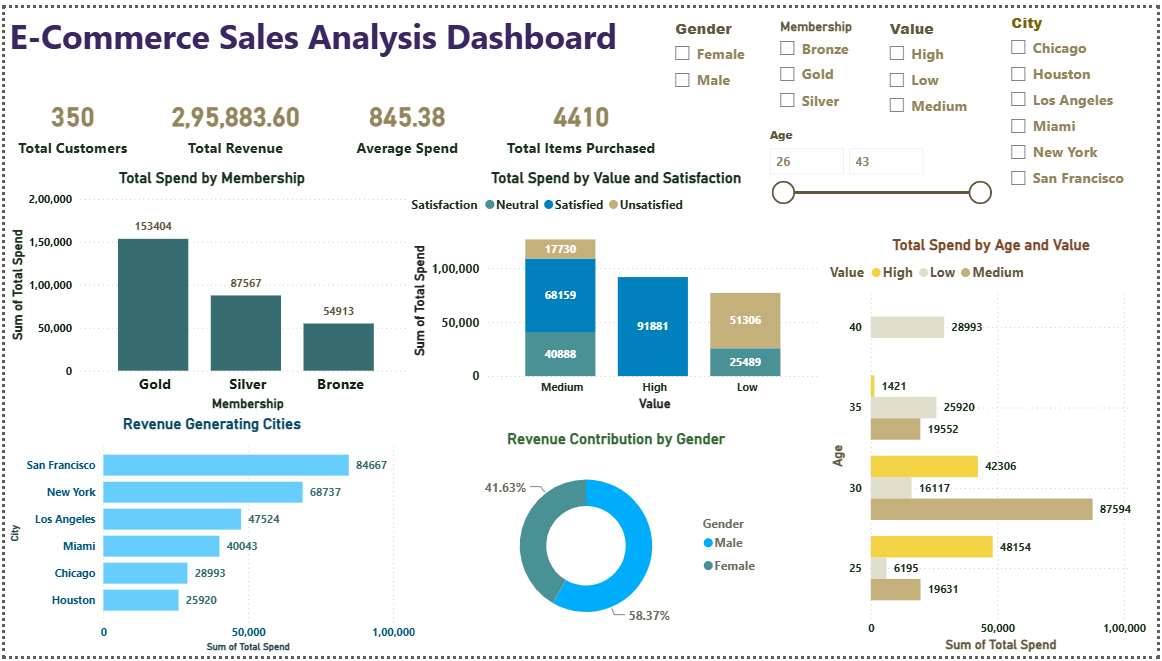

The page's visual inventory and layout, read from the dashboard file:
{"tool":"powerbi","page":{"name":"Page 1","canvas":[1280,720],"ordinal":0},"visuals":[{"type":"textbox","box":[0,0,836.7,108.3],"z":0},{"type":"card","fields":{"Values":["Count(E_commerce_sales.Customer_id)"]},"box":[0,81.7,150,96.7],"z":1000},{"type":"card","fields":{"Values":["Sum(E_commerce_sales.Total_Spend)"]},"box":[166.7,81.7,178.3,96.7],"z":2000},{"type":"card","fields":{"Values":["Avg(E_commerce_sales.Total_Spend)"]},"box":[363.3,81.7,166.7,96.7],"z":3000},{"type":"card","fields":{"Values":["Sum(E_commerce_sales.Items_Purchased)"]},"box":[548.3,81.7,183.3,96.7],"z":4000},{"type":"clusteredColumnChart","title":"Total Spend by Membership","fields":{"Category":["E_commerce_sales.Membership"],"Y":["Sum(E_commerce_sales.Total_Spend)"]},"box":[0,178.3,460,273.3],"z":5000},{"type":"clusteredBarChart","title":"Revenue Generating Cities","fields":{"Category":["E_commerce_sales.City"],"Y":["Sum(E_commerce_sales.Total_Spend)"]},"box":[0,451.7,460,268.3],"z":6000},{"type":"donutChart","title":"Revenue Contribution by Gender","fields":{"Category":["E_commerce_sales.Gender"],"Y":["Sum(E_commerce_sales.Total_Spend)"]},"box":[510,468.3,338.3,238.3],"z":7000},{"type":"columnChart","title":"Total Spend by Value and Satisfaction","fields":{"Category":["E_commerce_sales.Value"],"Y":["Sum(E_commerce_sales.Total_Spend)"],"Series":["E_commerce_sales.Satisfaction"]},"box":[446.7,178.3,465,273.3],"z":8000},{"type":"clusteredBarChart","title":"Total Spend by Age and Value","fields":{"Y":["Sum(E_commerce_sales.Total_Spend)"],"Category":["E_commerce_sales.Age (bins)"],"Series":["E_commerce_sales.Value"]},"box":[911.7,253.3,368.3,466.7],"z":9000},{"type":"slicer","fields":{"Values":["E_commerce_sales.Membership"]},"box":[848.3,6.7,121.7,120],"z":10000},{"type":"slicer","fields":{"Values":["E_commerce_sales.City"]},"box":[1105,0,175,218.3],"z":11000},{"type":"slicer","fields":{"Values":["E_commerce_sales.Age"]},"box":[836.7,126.7,268.3,91.7],"z":12000},{"type":"slicer","fields":{"Values":["E_commerce_sales.Value"]},"box":[970,6.7,135,123.3],"z":12001},{"type":"slicer","fields":{"Values":["E_commerce_sales.Gender"]},"box":[731.7,6.7,120,91.7],"z":12002}]}

Visuals, with their boxes in screenshot pixels (x1, y1, x2, y2), scaled from the page's 1280x720 canvas onto the 1162x661 screenshot:
textbox: <bbox>0, 0, 760, 99</bbox>
card - Count(E_commerce_sales.Customer_id): <bbox>0, 75, 136, 164</bbox>
card - Sum(E_commerce_sales.Total_Spend): <bbox>151, 75, 313, 164</bbox>
card - Avg(E_commerce_sales.Total_Spend): <bbox>330, 75, 481, 164</bbox>
card - Sum(E_commerce_sales.Items_Purchased): <bbox>498, 75, 664, 164</bbox>
"Total Spend by Membership" clusteredColumnChart: <bbox>0, 164, 418, 415</bbox>
"Revenue Generating Cities" clusteredBarChart: <bbox>0, 415, 418, 660</bbox>
"Revenue Contribution by Gender" donutChart: <bbox>463, 430, 770, 649</bbox>
"Total Spend by Value and Satisfaction" columnChart: <bbox>406, 164, 828, 415</bbox>
"Total Spend by Age and Value" clusteredBarChart: <bbox>828, 233, 1161, 660</bbox>
slicer - E_commerce_sales.Membership: <bbox>770, 6, 881, 116</bbox>
slicer - E_commerce_sales.City: <bbox>1003, 0, 1161, 200</bbox>
slicer - E_commerce_sales.Age: <bbox>760, 116, 1003, 201</bbox>
slicer - E_commerce_sales.Value: <bbox>881, 6, 1003, 119</bbox>
slicer - E_commerce_sales.Gender: <bbox>664, 6, 773, 90</bbox>
